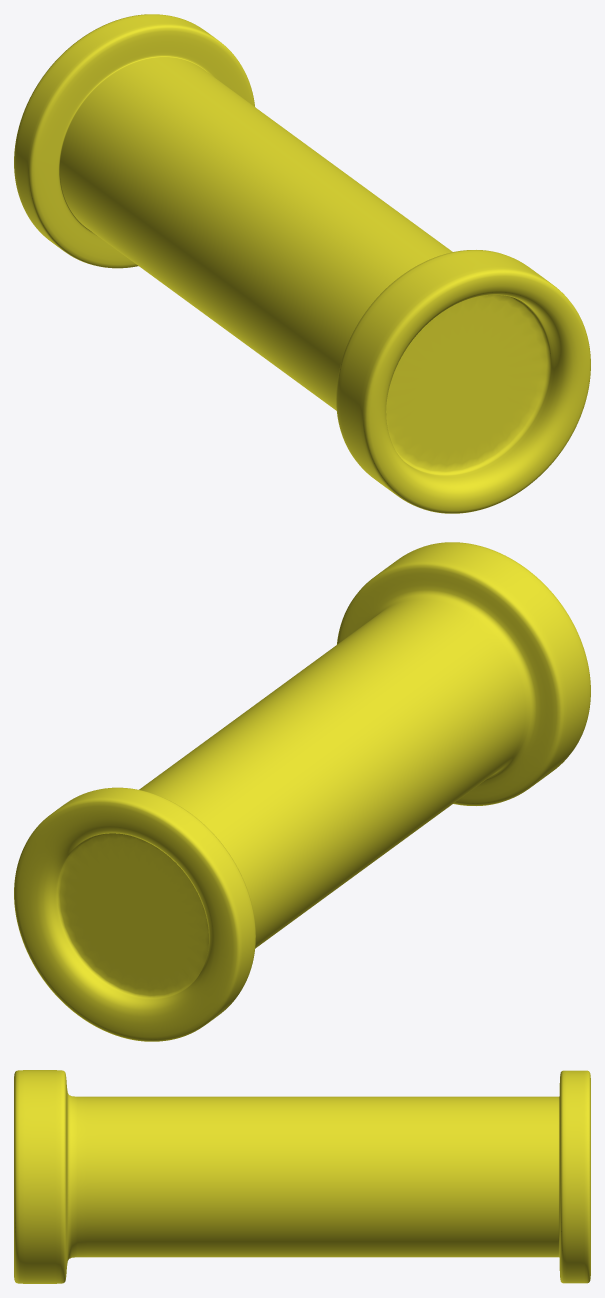
File: Pipe.fbx
3 renders of one model, top to bottom at view 1: azimuth 30°, elevation 25°; view 2: azimuth 150°, elevation 25°; view 3: azimuth 270°, elevation 25°, orthographic. The views are drawn at different scales.
Parts seen in each view (by area): view 1: Cylinder; view 2: Cylinder; view 3: Cylinder.
Part boxes in pixels (left/top/right/bottom): Cylinder: left=14, top=14, right=590, bottom=513; Cylinder: left=14, top=542, right=590, bottom=1041; Cylinder: left=14, top=1070, right=590, bottom=1283.
Bounding box in the file's own units: 199 × 199 × 537.
